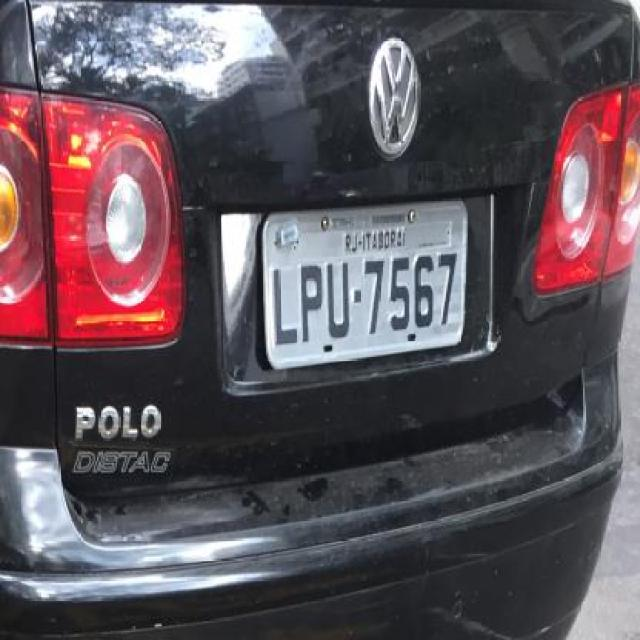old_plate: (252, 191, 479, 376)
